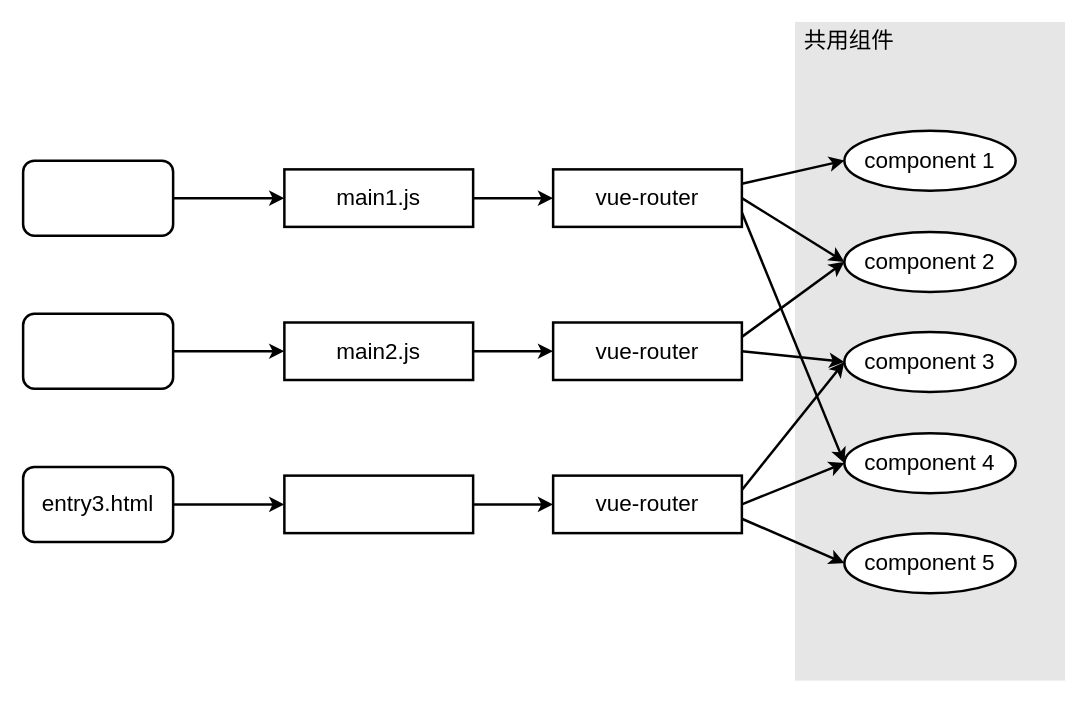
This 1086x701 diagram has some shape labels left out. The box of each missing label's shape, as (x1, y1, x2, y2) in pixels:
entry1.html: (21, 159, 174, 236)
entry2.html: (21, 312, 174, 389)
main3.js: (282, 474, 474, 534)
